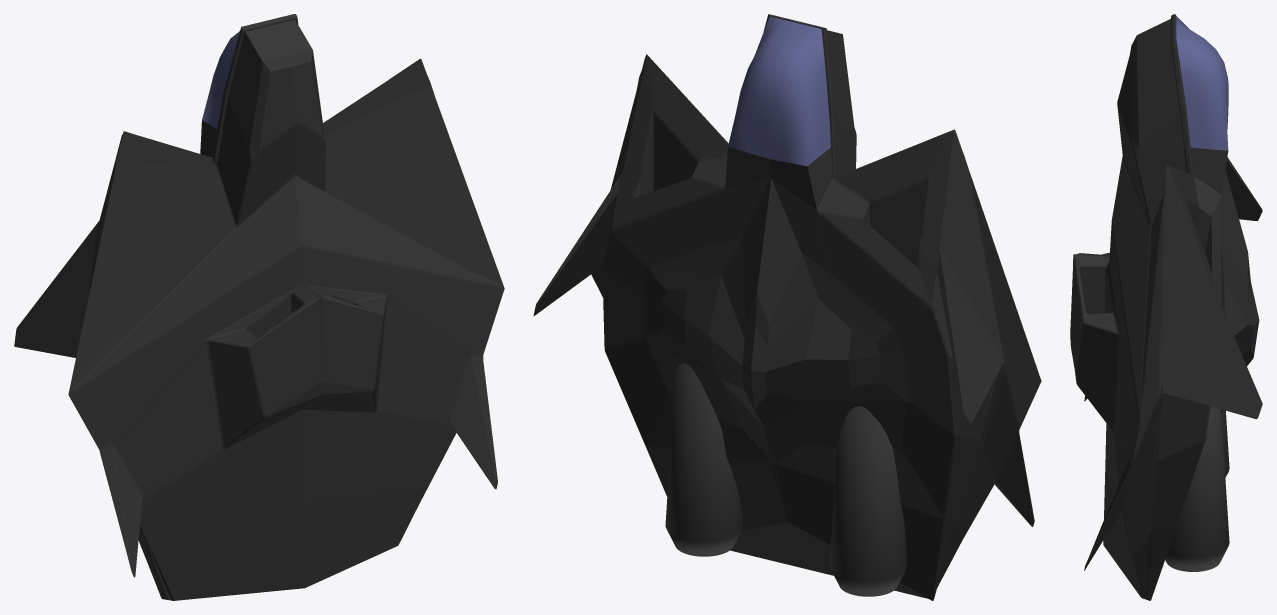
File: Ships.fbx
3 views of the same model, side by side, from view 1: azimuth 30°, elevation 25°; view 2: azimuth 150°, elevation 25°; view 3: azimuth 270°, elevation 25° (orthographic). The views are drawn at different scales.
Parts seen in each view (by area): view 1: Cube; view 2: Cube; view 3: Cube.
Part boxes in pixels (x1,y1,x2,y2): Cube: (14, 14, 504, 600); Cube: (533, 14, 1041, 600); Cube: (1070, 14, 1262, 600).
Size of the model in its own units: 2648 by 3136 by 1055.
